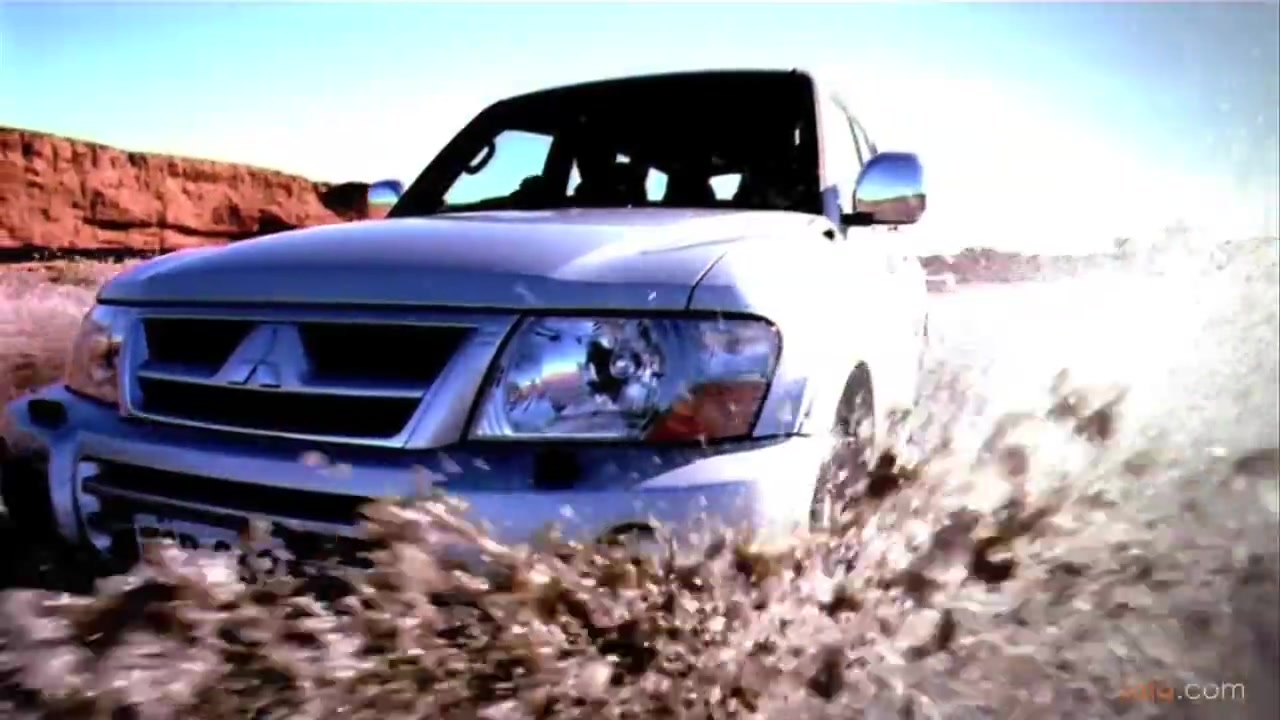car: (6, 66, 930, 587)
